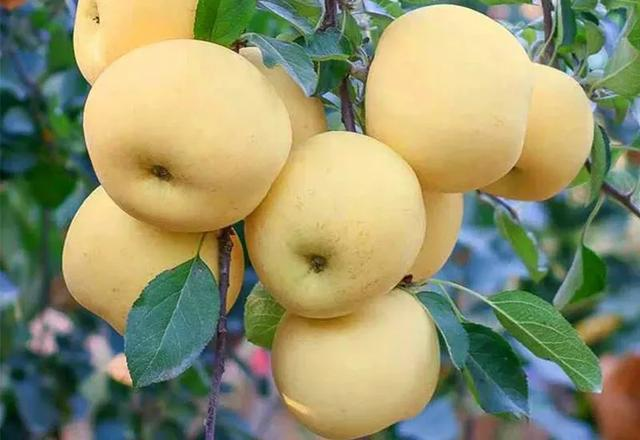apple: (81, 39, 291, 232), (245, 130, 426, 318), (362, 3, 534, 190), (61, 183, 244, 339), (269, 291, 442, 440), (479, 57, 593, 202), (69, 1, 201, 83)
